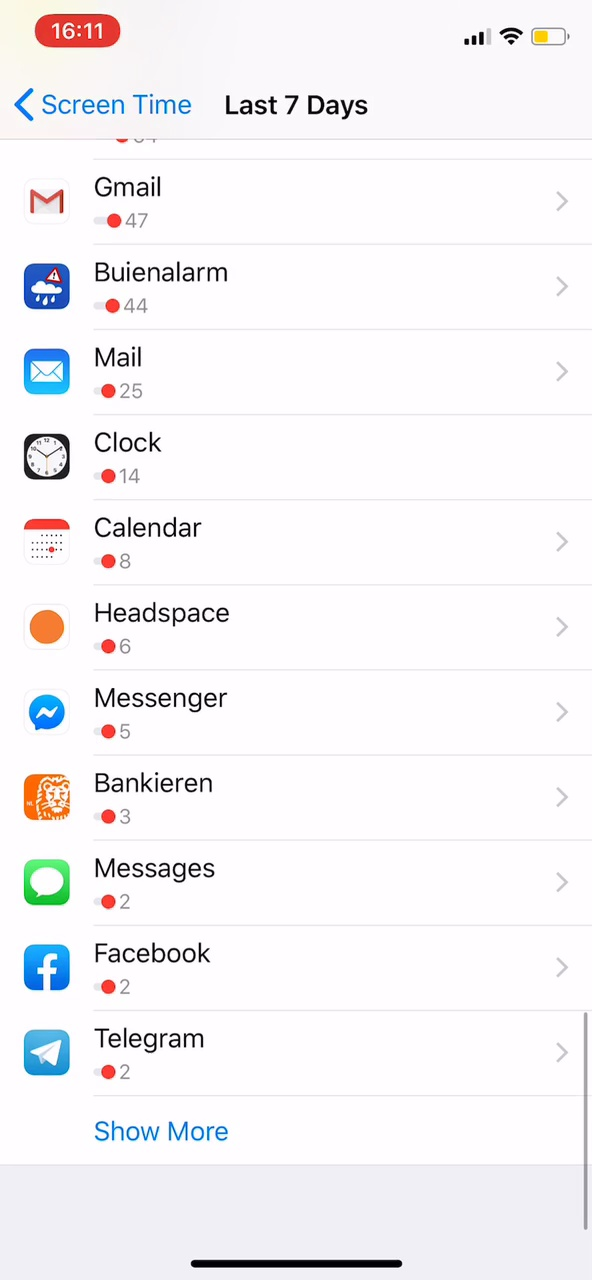not_app: (15, 674, 353, 757), (20, 583, 336, 669), (20, 927, 325, 1014), (12, 160, 315, 246), (12, 763, 340, 842), (18, 330, 325, 414), (20, 500, 323, 583), (15, 247, 315, 327), (17, 846, 298, 925), (18, 1019, 292, 1099), (22, 416, 278, 496)
week: (207, 85, 382, 130)
